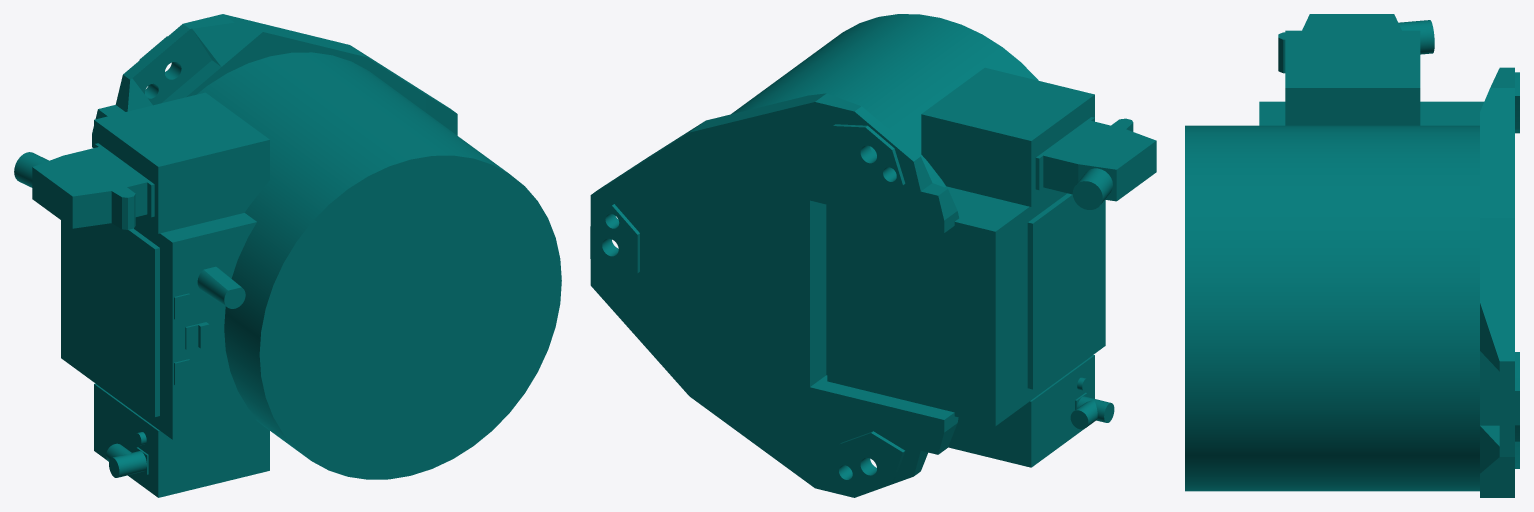
3 views of the same model, side by side, from view 1: azimuth 30°, elevation 25°; view 2: azimuth 150°, elevation 25°; view 3: azimuth 270°, elevation 25° (orthographic). The views are drawn at different scales.
Visible parts, largest first — view 1: KR16-AV300.sldasm-Part-1-1; view 2: KR16-AV300.sldasm-Part-1-1; view 3: KR16-AV300.sldasm-Part-1-1.
Part boxes in pixels (x1=…): KR16-AV300.sldasm-Part-1-1: x1=14, y1=14, x2=561, y2=497; KR16-AV300.sldasm-Part-1-1: x1=590, y1=14, x2=1156, y2=497; KR16-AV300.sldasm-Part-1-1: x1=1185, y1=14, x2=1519, y2=497.
Size of the model in its own units: 0.6843 by 0.536 by 0.3969.
